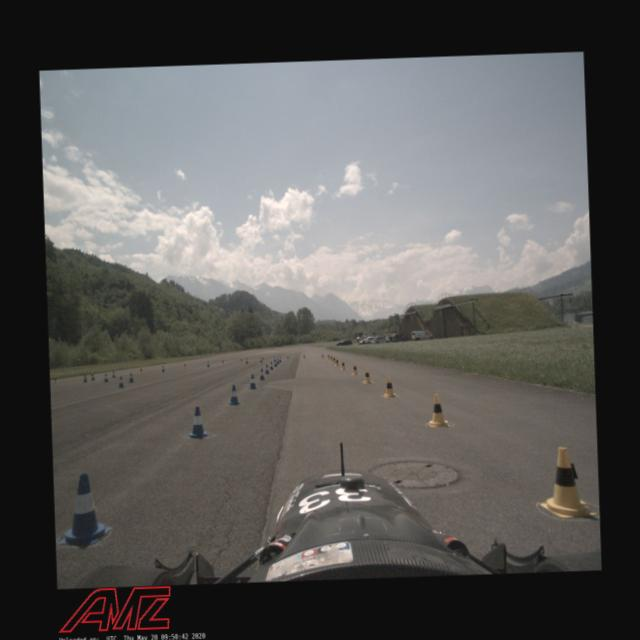blue_cone: (56, 471, 112, 549), (186, 406, 209, 438), (227, 384, 240, 405), (247, 373, 257, 389), (258, 368, 265, 380), (118, 376, 124, 388), (268, 360, 274, 370), (264, 364, 270, 374), (103, 372, 109, 382), (128, 372, 134, 382), (82, 373, 88, 382), (90, 372, 95, 380), (273, 359, 277, 367), (111, 370, 115, 378), (276, 357, 280, 364), (160, 365, 164, 372), (278, 356, 282, 362), (206, 361, 210, 367), (273, 355, 276, 362), (244, 358, 248, 363), (259, 356, 262, 362)
yellow_cone: (538, 446, 580, 520), (426, 394, 448, 426), (382, 376, 396, 398), (361, 368, 372, 384), (351, 362, 358, 376), (339, 360, 346, 370), (334, 358, 340, 367), (53, 375, 58, 383), (332, 356, 336, 364), (90, 370, 94, 378), (138, 366, 142, 374), (182, 363, 186, 369), (321, 353, 324, 359), (286, 354, 289, 360), (221, 359, 224, 365), (330, 354, 332, 362), (327, 354, 330, 359), (262, 356, 265, 361), (302, 354, 305, 358), (240, 358, 242, 363)
